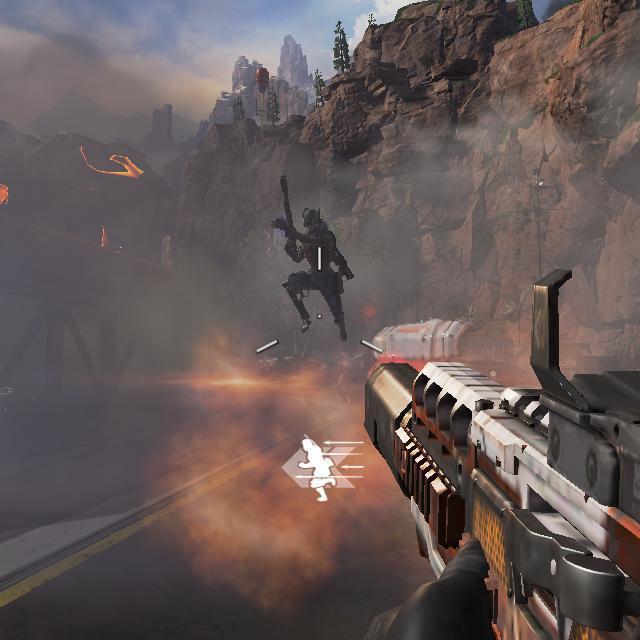avatar: (272, 205, 352, 343)
